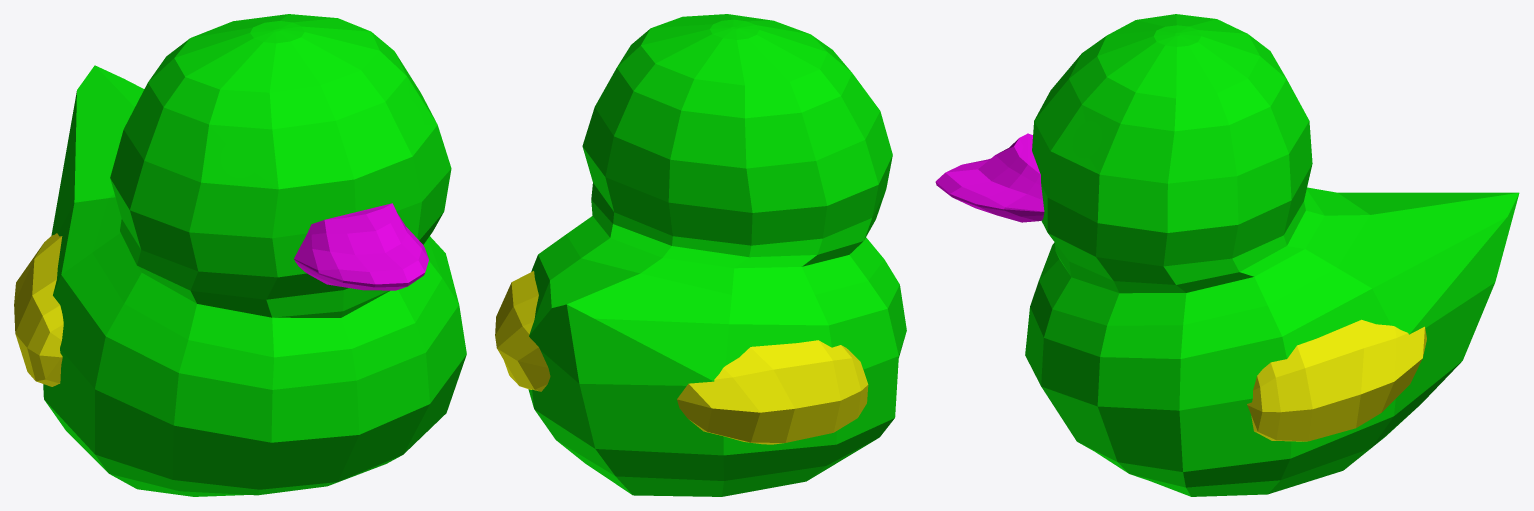
Rendered from rubber_duck_01.fbx.
3 renders of one model, left to right at view 1: azimuth 30°, elevation 25°; view 2: azimuth 150°, elevation 25°; view 3: azimuth 270°, elevation 25°, orthographic. The views are drawn at different scales.
Visible parts, largest first — view 1: rubber_duck_01; view 2: rubber_duck_01; view 3: rubber_duck_01.
Boxes of the visible parts, x1=… form: rubber_duck_01: x1=14, y1=14, x2=466, y2=496; rubber_duck_01: x1=495, y1=14, x2=906, y2=496; rubber_duck_01: x1=935, y1=14, x2=1519, y2=496.
Size of the model in its own units: 5.8 by 6.15 by 8.09.
